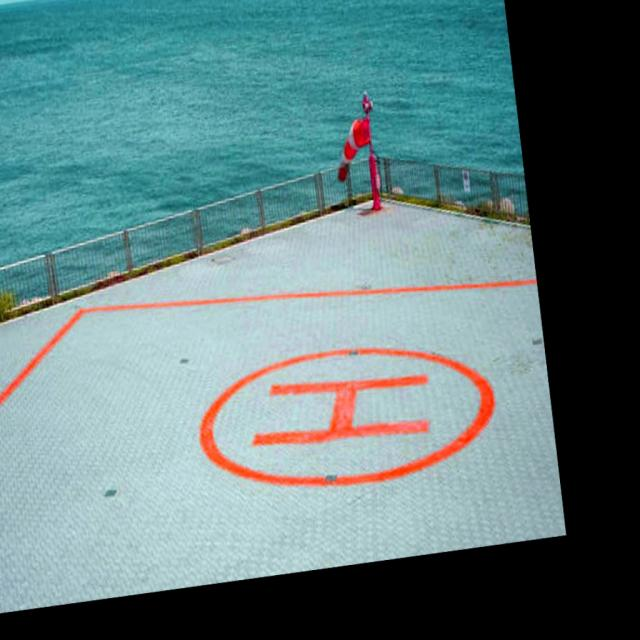helipad: (191, 340, 500, 489)
